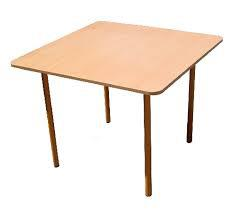desk: (3, 8, 231, 200)
